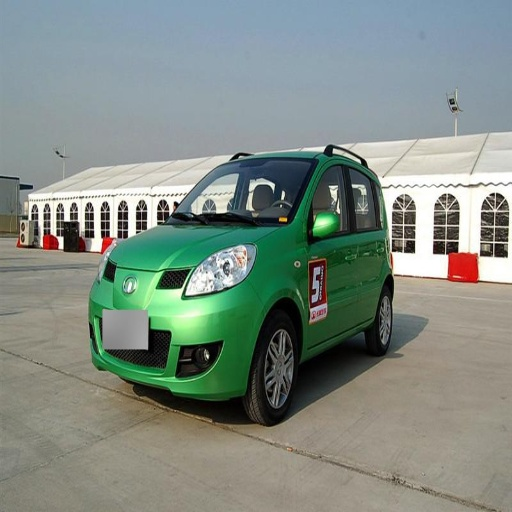front_bumper: (89, 262, 265, 397)
front_glass: (173, 158, 314, 225)
front_left_door: (307, 154, 355, 344)
